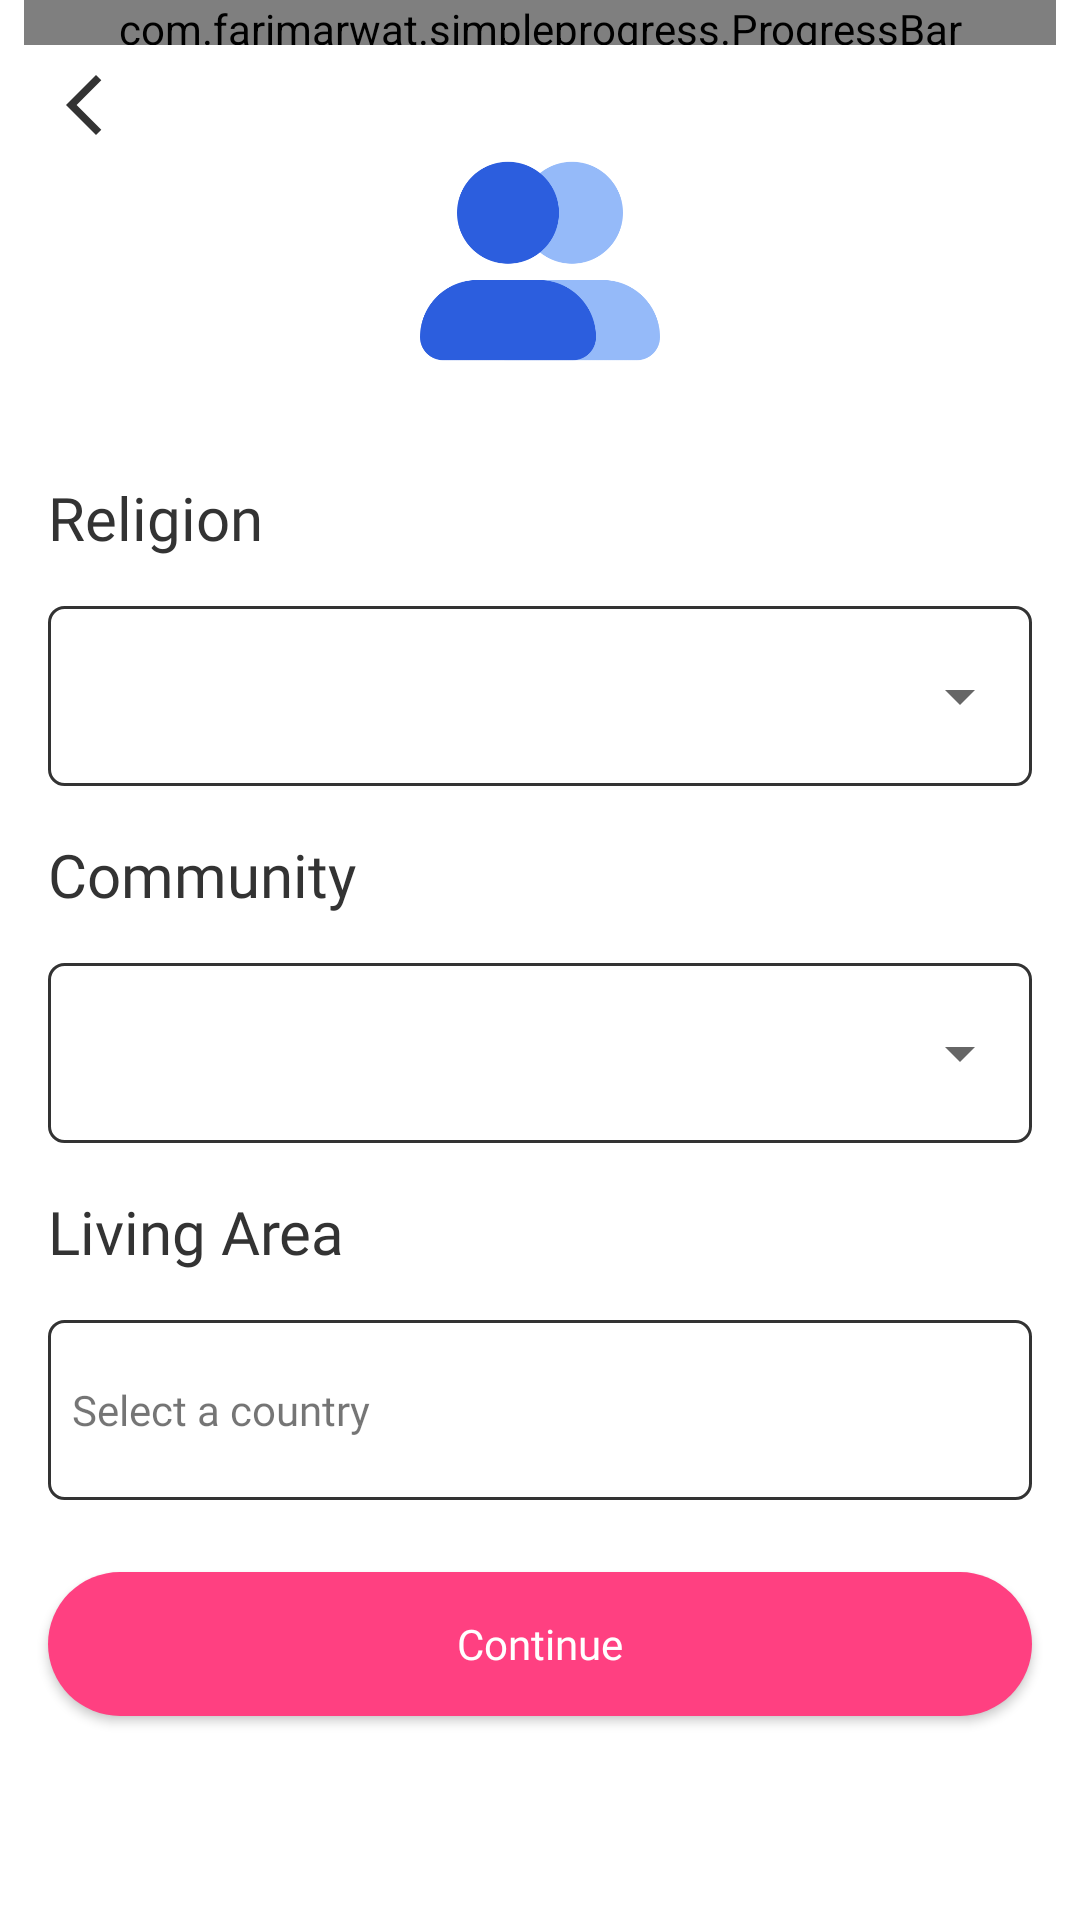

Locate icon controls on the screen. Image size 1080x1920, boxes as {"left": x1, "top": y1, "right": x2, "bottom": y2}.
arrow back: {"left": 66, "top": 75, "right": 101, "bottom": 135}
users: {"left": 420, "top": 161, "right": 660, "bottom": 361}
